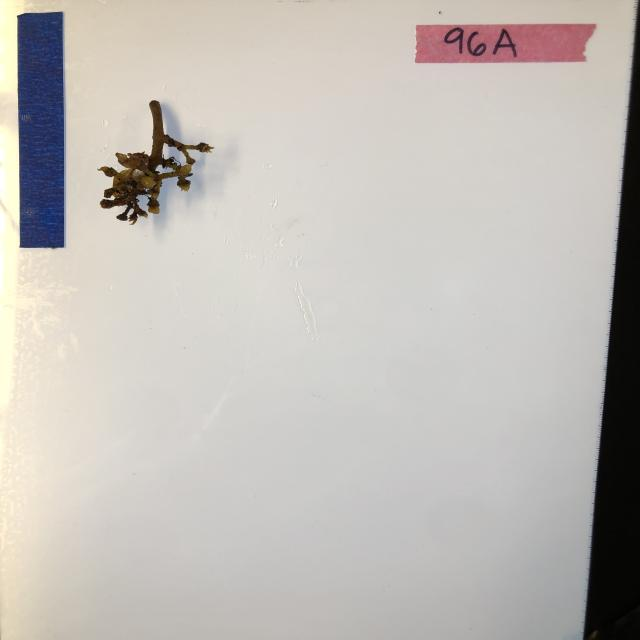index: (414, 22, 595, 64)
measure_label: (18, 11, 67, 251)
rachis_cluster: (97, 98, 215, 224)
